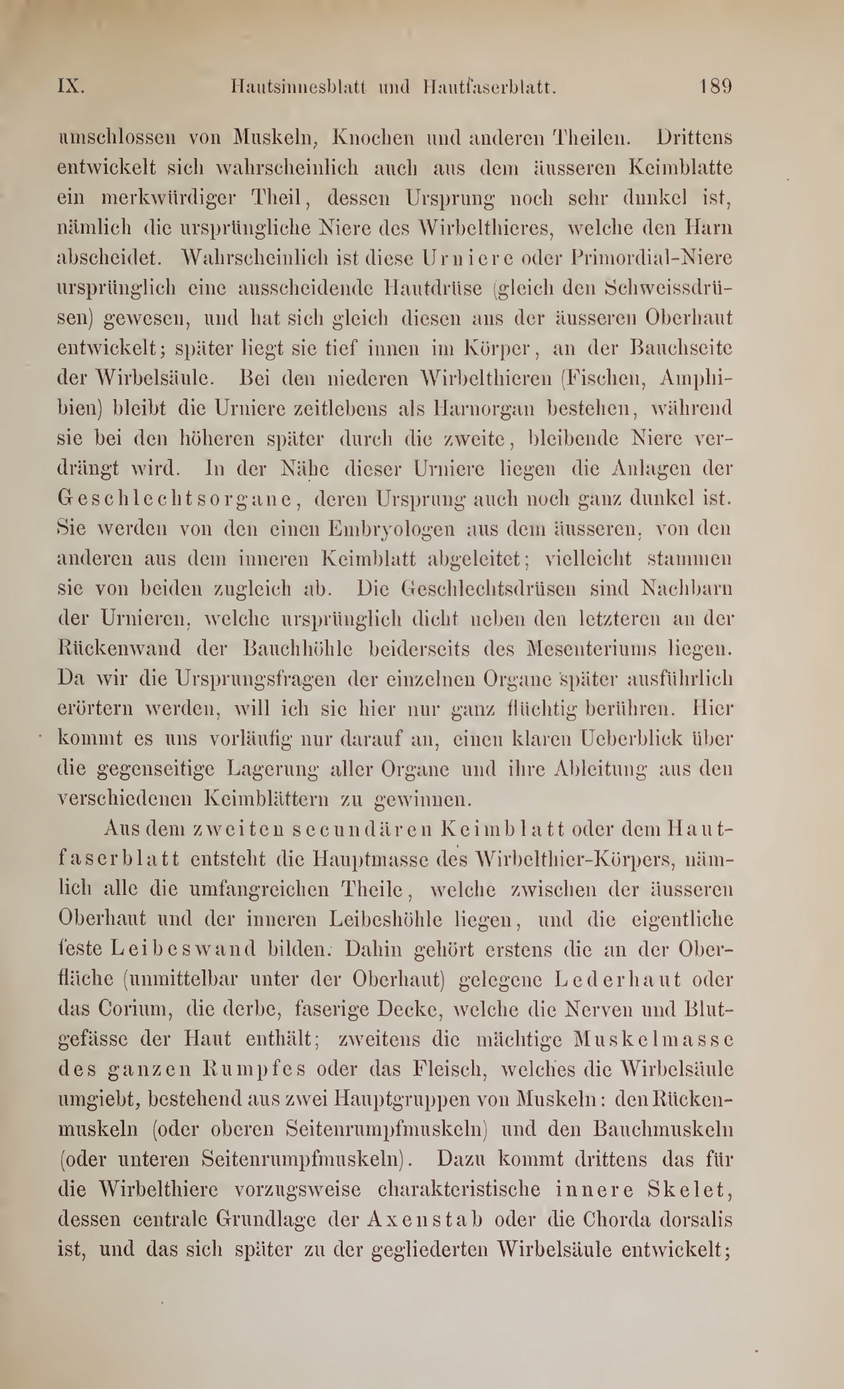MainZone: (43, 110, 762, 1290)
NumberingZone chapter: (46, 64, 104, 114)
NumberingZone_page: (675, 66, 748, 113)
RunningTitleZone: (218, 66, 567, 111)
